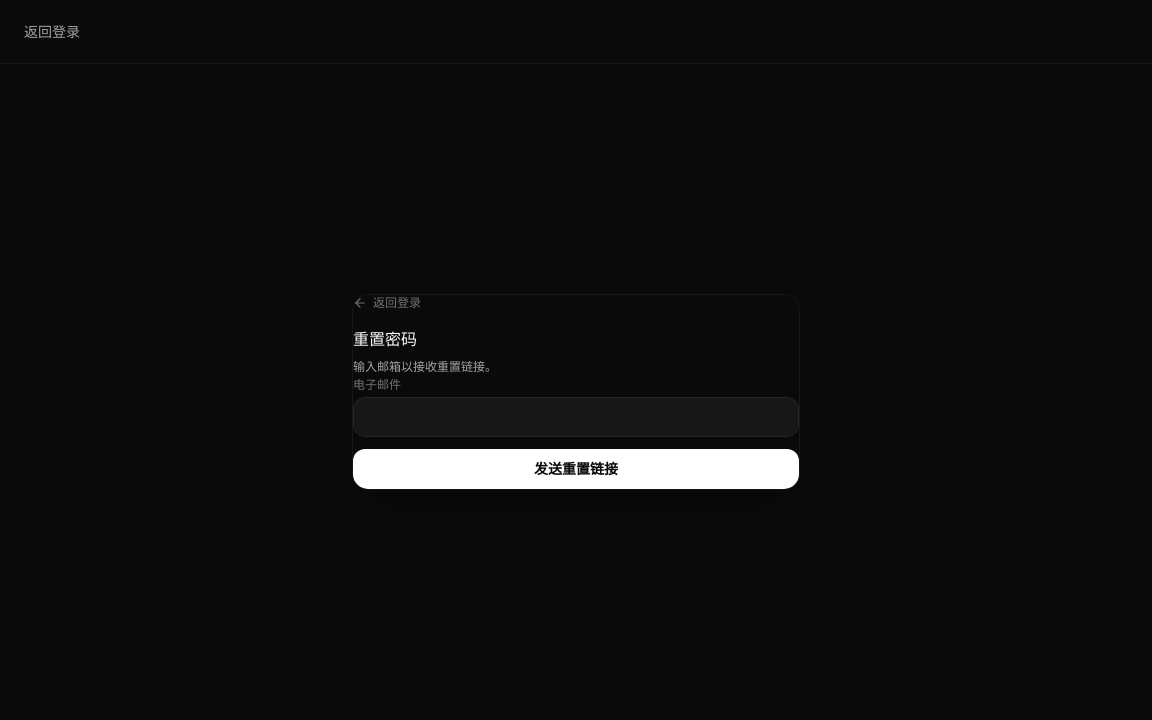
Test case: ResetPasswordPage › requests a reset email with a reset-password redirect
In the field labelled "电子邮件": [576, 417] box [353, 397, 799, 437], type "user@example.com"
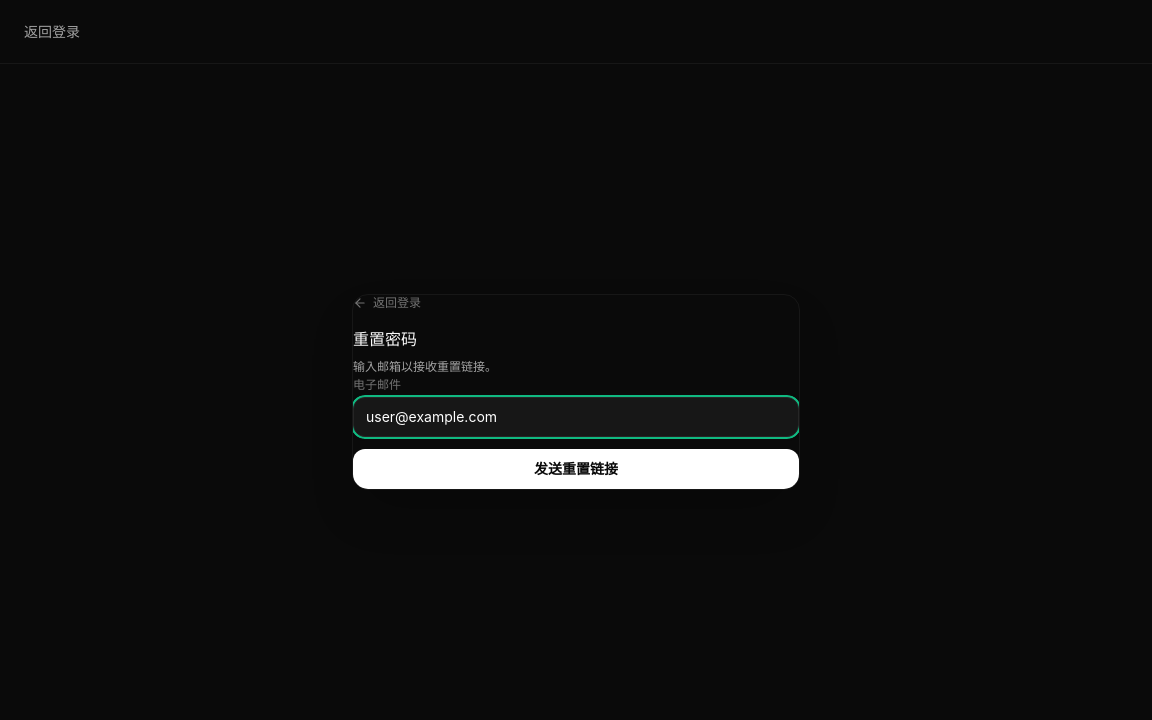
Click the button "发送重置链接": [576, 469] box [353, 449, 799, 489]
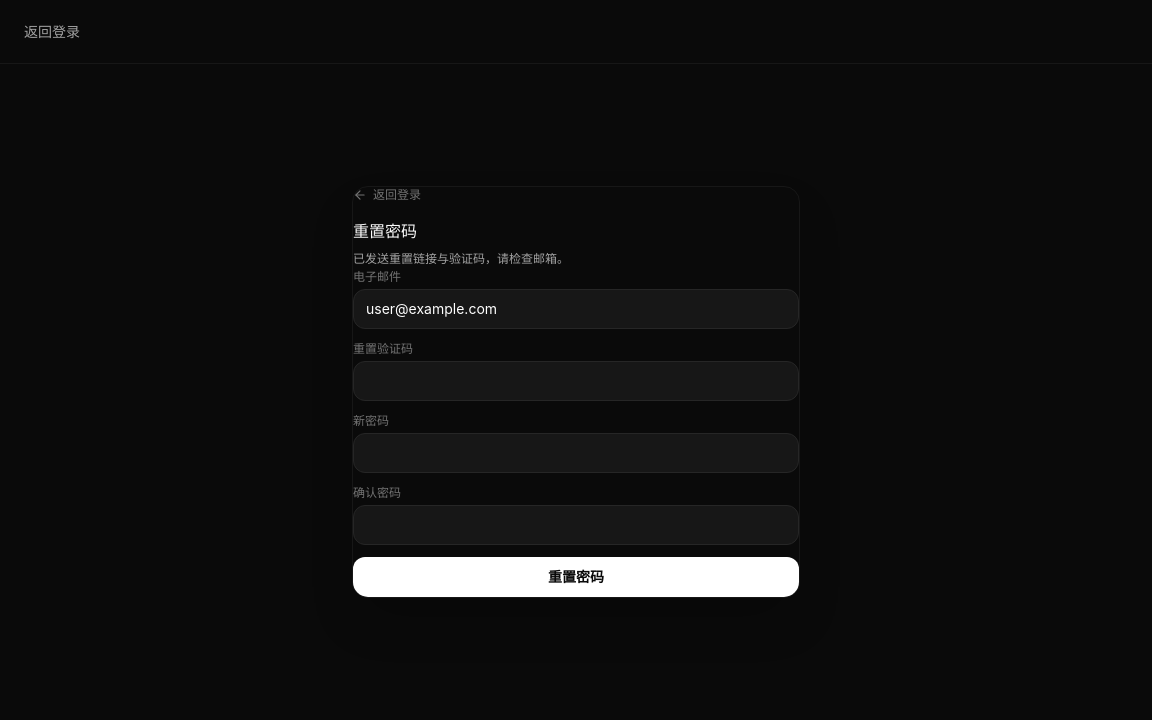
Check: the text "已发送重置链接与验证码，请检查邮箱。" is shown, box [353, 251, 569, 266]
